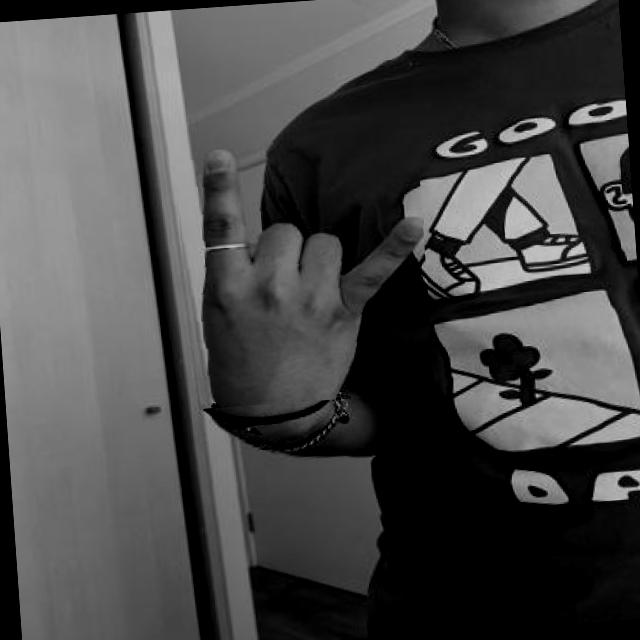U: (170, 130, 434, 410)
